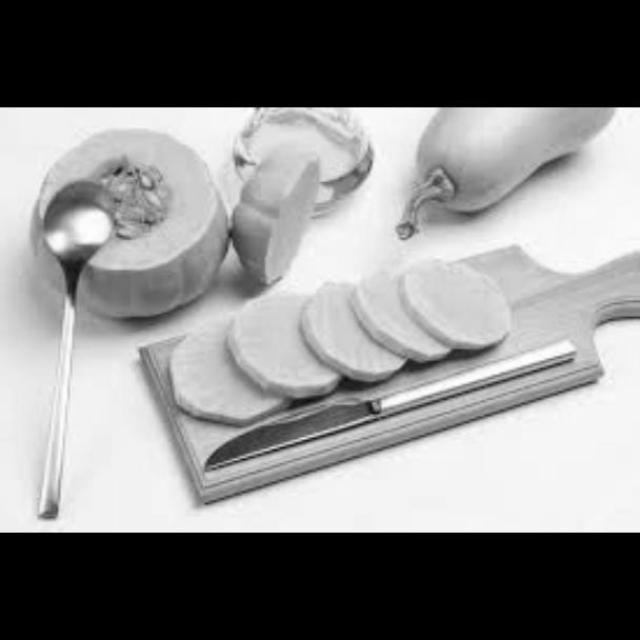bi ngo: (34, 126, 235, 318), (385, 105, 615, 244), (232, 285, 341, 414), (228, 151, 326, 293), (164, 311, 282, 424), (304, 275, 410, 388), (414, 251, 521, 360), (352, 261, 448, 371)
